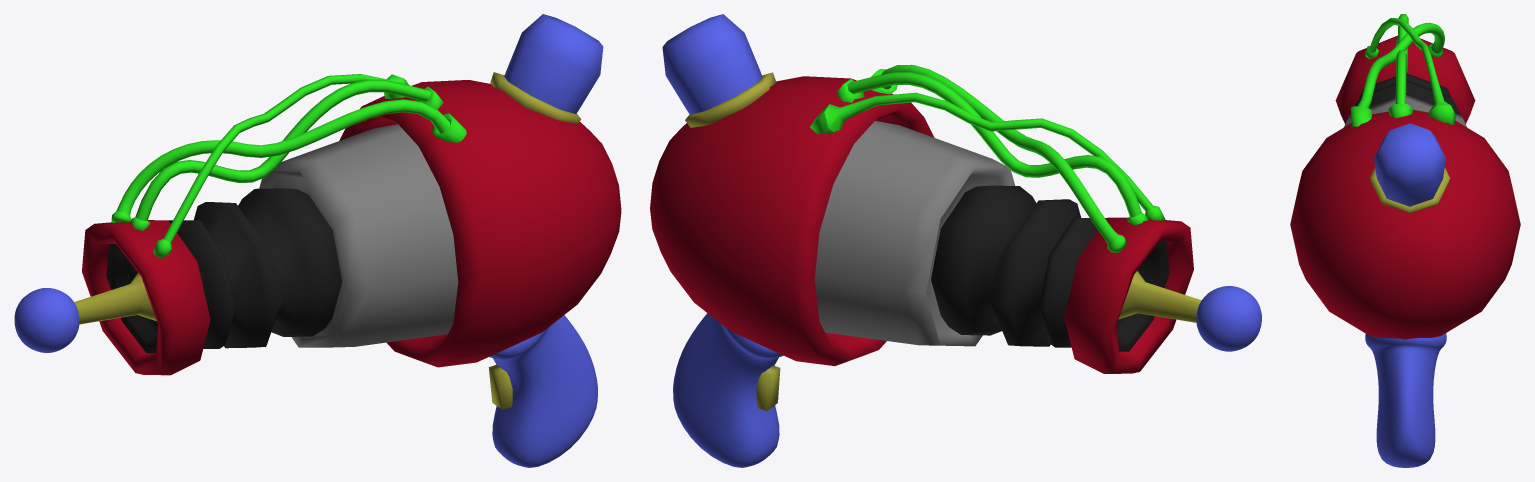
The model's file is Raygun.fbx.
3 views of the same model, side by side, from view 1: azimuth 30°, elevation 25°; view 2: azimuth 150°, elevation 25°; view 3: azimuth 270°, elevation 25° (orthographic). The views are drawn at different scales.
Visible parts, largest first — view 1: MainBody, MidShaft, Neck, Wires, OuterHead, Handle, BackTube, Tip, Needle, InnerHead, BackTubeBase, Trigger; view 2: MainBody, MidShaft, Neck, Wires, OuterHead, Handle, BackTube, Tip, Needle, InnerHead, BackTubeBase, Trigger; view 3: MainBody, Handle, BackTube, Wires, OuterHead, Neck, BackTubeBase, MidShaft.
Boxes of the visible parts, bbox=[...] form: MainBody: bbox=[339, 80, 621, 367]; MidShaft: bbox=[259, 124, 458, 347]; Neck: bbox=[168, 188, 342, 348]; Wires: bbox=[111, 74, 466, 258]; OuterHead: bbox=[82, 220, 210, 375]; Handle: bbox=[489, 315, 597, 467]; BackTube: bbox=[504, 14, 603, 113]; Tip: bbox=[14, 288, 79, 352]; Needle: bbox=[74, 273, 156, 324]; InnerHead: bbox=[106, 244, 158, 353]; BackTubeBase: bbox=[490, 72, 581, 124]; Trigger: bbox=[488, 364, 512, 409]; MainBody: bbox=[650, 76, 934, 365]; MidShaft: bbox=[814, 121, 1015, 346]; Neck: bbox=[931, 185, 1106, 347]; Wires: bbox=[810, 64, 1165, 252]; OuterHead: bbox=[1064, 217, 1193, 373]; Handle: bbox=[673, 313, 783, 467]; BackTube: bbox=[662, 14, 762, 114]; Tip: bbox=[1196, 286, 1261, 351]; Needle: bbox=[1118, 270, 1201, 322]; InnerHead: bbox=[1117, 241, 1169, 351]; BackTubeBase: bbox=[685, 72, 776, 127]; Trigger: bbox=[756, 365, 780, 411]; MainBody: bbox=[1290, 110, 1520, 339]; Handle: bbox=[1365, 333, 1446, 467]; BackTube: bbox=[1374, 123, 1445, 206]; Wires: bbox=[1350, 14, 1455, 126]; OuterHead: bbox=[1335, 35, 1475, 123]; Neck: bbox=[1345, 73, 1465, 123]; BackTubeBase: bbox=[1369, 167, 1449, 213]; MidShaft: bbox=[1344, 94, 1466, 127].
Bounding box in the file's own units: 702 × 495 × 298.
